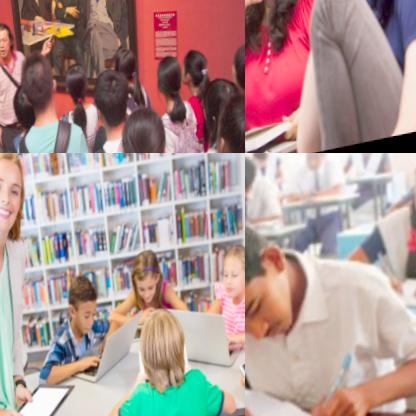head: (245, 208, 296, 357), (136, 307, 191, 397), (198, 77, 241, 149), (63, 275, 105, 345), (19, 49, 62, 115), (90, 69, 133, 133), (5, 80, 46, 144), (0, 153, 30, 240), (119, 104, 169, 153), (209, 95, 245, 153), (217, 242, 245, 315), (130, 250, 161, 311), (154, 57, 186, 110), (108, 47, 141, 98), (179, 48, 211, 98), (225, 47, 245, 116), (62, 66, 91, 111), (294, 153, 326, 176), (245, 153, 258, 209), (0, 22, 15, 64), (248, 153, 272, 177), (347, 153, 378, 158)
